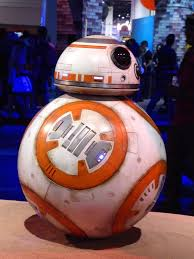bb8: (17, 34, 167, 239)
